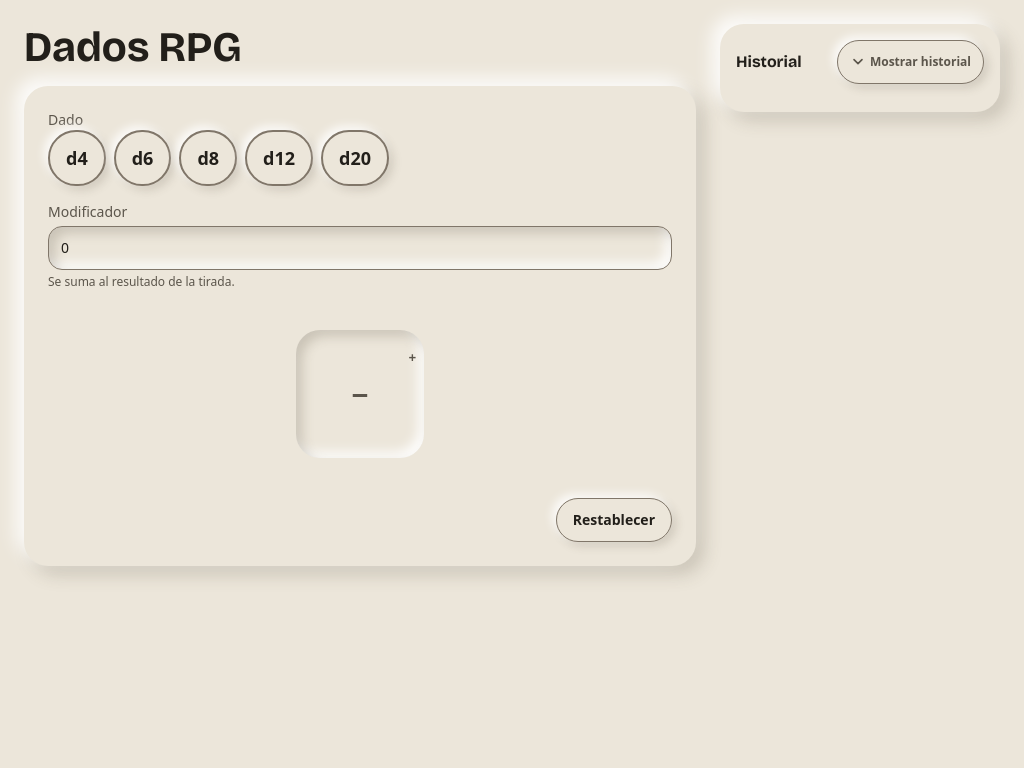
Test: DicePage — dados › tira un d20+3, muestra el total y registra el sorteo en el historial
Replace the text in the number field labelled "Modificador" with "3" at (360, 248), box x1=48 y1=226 x2=672 y2=270
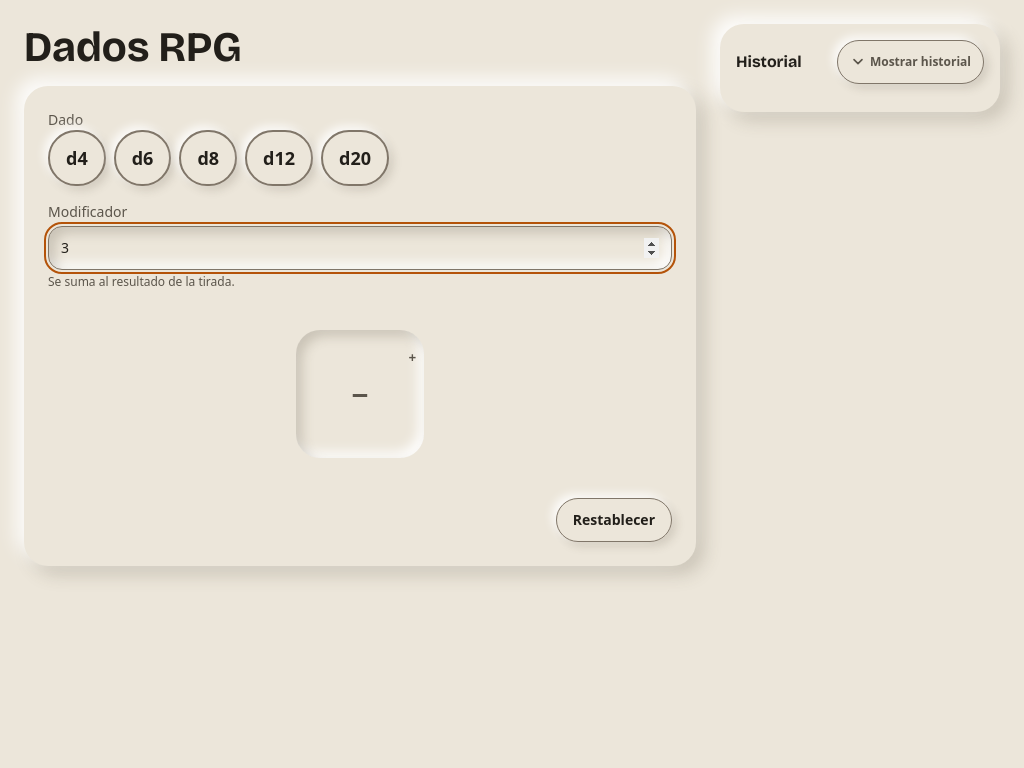
Click the button "d20".
click(355, 158)  # box x1=321 y1=130 x2=389 y2=186
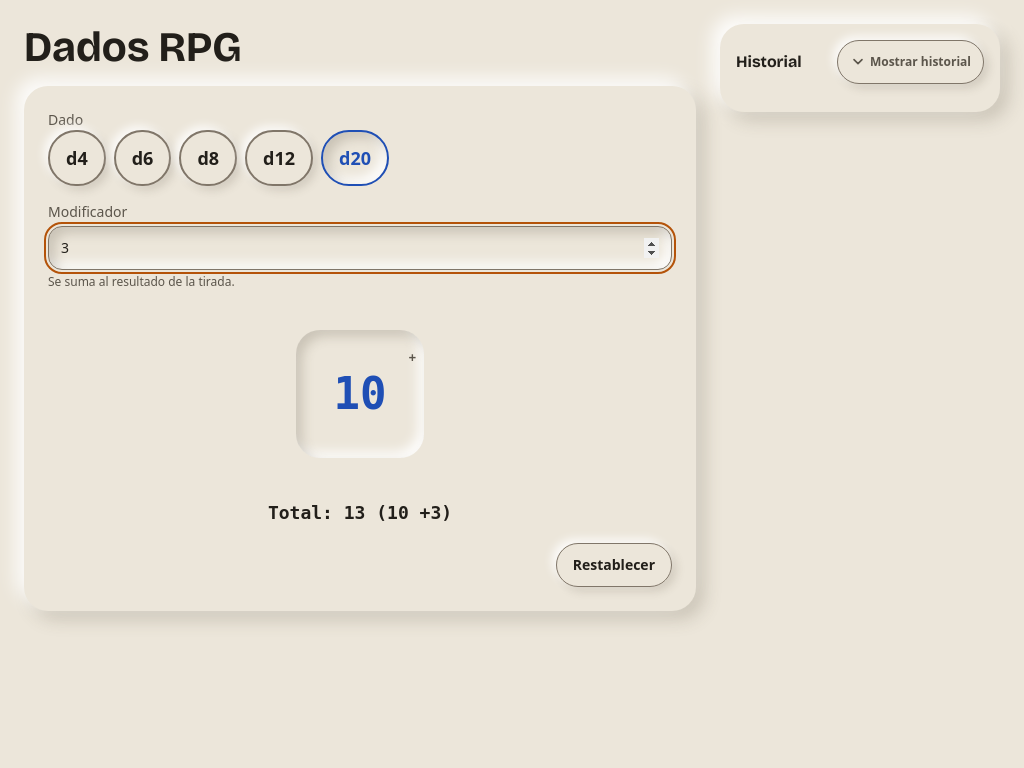
Expected: the text "Total: 13 (10 +3)" is shown, x1=268 y1=502 x2=452 y2=523
